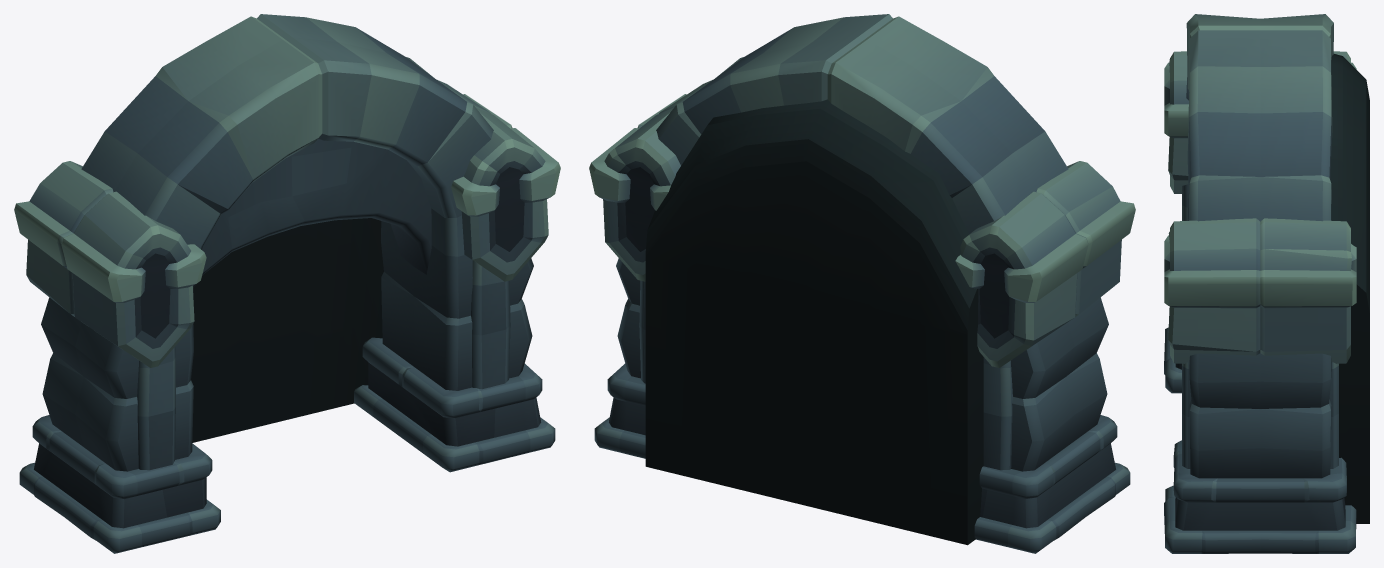
The model's file is dungeon_entrance.fbx.
3 renders of one model, left to right at view 1: azimuth 30°, elevation 25°; view 2: azimuth 150°, elevation 25°; view 3: azimuth 270°, elevation 25°, orthographic.
Parts seen in each view (by area): view 1: dungeon_entrance; view 2: dungeon_entrance; view 3: dungeon_entrance.
Boxes of the visible parts, box(x1,y1,x2,y2) form: dungeon_entrance: box(14, 14, 560, 553); dungeon_entrance: box(589, 14, 1135, 553); dungeon_entrance: box(1164, 14, 1369, 553).
Bounding box in the file's own units: 708 × 637 × 282.
